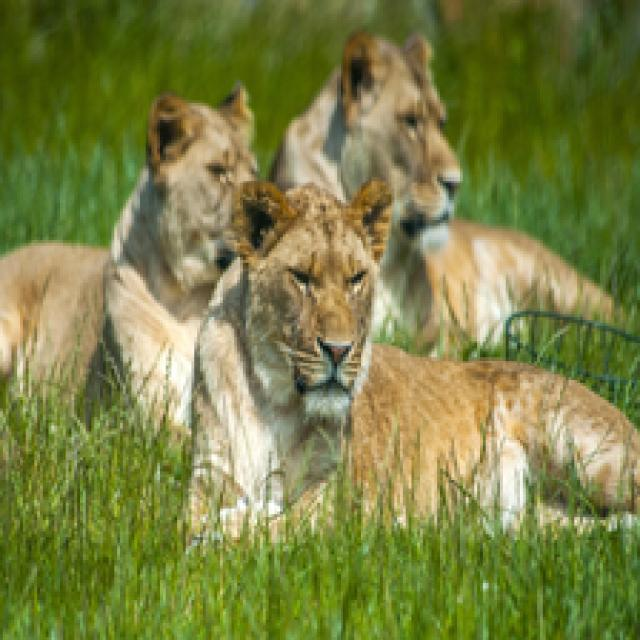lion: (184, 170, 640, 533), (272, 15, 640, 345), (0, 88, 268, 432)
